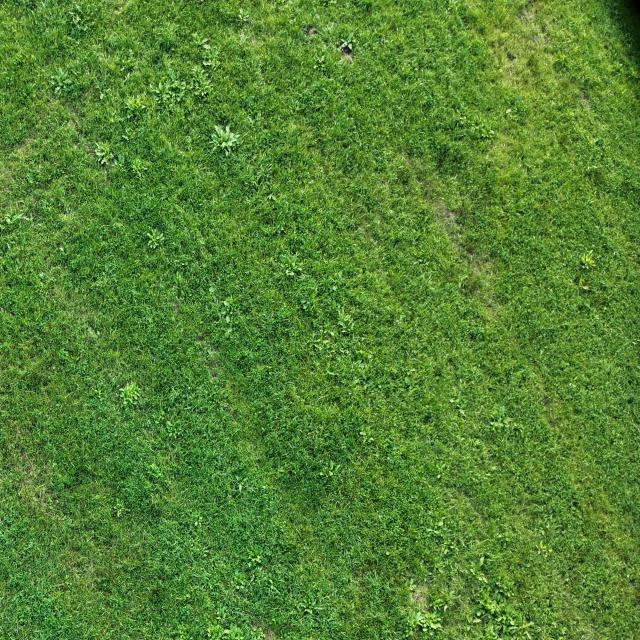rumex: (0, 221, 83, 345), (567, 93, 640, 220), (458, 567, 534, 638), (225, 542, 281, 612), (245, 149, 275, 193), (296, 590, 330, 627), (64, 2, 98, 34), (232, 473, 273, 498), (463, 111, 496, 142), (412, 606, 446, 634), (575, 250, 598, 289), (475, 587, 503, 618), (216, 292, 239, 327), (113, 53, 138, 83), (50, 66, 74, 96), (446, 384, 468, 416), (488, 402, 511, 432), (190, 70, 214, 98), (3, 206, 31, 228), (118, 381, 142, 406), (311, 44, 332, 72), (192, 33, 214, 59), (122, 94, 148, 116), (282, 254, 304, 279), (163, 414, 183, 441), (427, 591, 450, 614), (357, 425, 377, 448), (466, 566, 489, 586), (244, 548, 264, 569), (145, 228, 164, 250), (336, 32, 355, 54), (320, 458, 338, 481), (128, 157, 146, 179), (336, 316, 356, 334), (111, 498, 127, 518), (535, 538, 551, 556), (164, 69, 182, 84), (67, 12, 83, 28), (168, 76, 184, 92), (237, 6, 251, 24), (170, 85, 184, 103), (204, 54, 219, 70), (453, 106, 468, 121), (555, 51, 569, 67), (412, 611, 425, 628), (353, 379, 368, 393), (585, 162, 601, 175), (103, 260, 116, 276), (12, 50, 27, 63), (237, 32, 248, 49), (457, 273, 470, 286), (221, 299, 233, 311), (582, 254, 595, 265), (97, 155, 110, 166), (229, 623, 239, 637), (26, 173, 37, 185), (314, 341, 326, 352), (326, 22, 336, 35), (494, 589, 504, 602), (408, 579, 417, 593), (220, 604, 227, 620), (222, 140, 232, 151), (441, 546, 450, 558), (577, 276, 585, 289), (477, 555, 485, 568), (288, 254, 298, 264), (208, 285, 216, 297), (435, 518, 444, 528), (165, 420, 173, 431), (514, 369, 525, 377), (499, 404, 505, 418), (54, 86, 63, 95), (538, 540, 546, 550), (286, 268, 296, 276), (192, 32, 200, 42), (116, 156, 124, 166), (121, 133, 130, 141), (328, 329, 336, 338), (513, 95, 522, 103), (248, 116, 255, 126), (247, 96, 254, 106), (452, 107, 460, 115), (505, 108, 512, 117), (328, 462, 335, 471), (50, 76, 57, 85), (5, 216, 12, 224), (359, 430, 367, 437), (449, 396, 456, 404), (238, 483, 243, 494), (568, 382, 575, 389), (120, 65, 126, 73), (225, 148, 231, 156), (194, 520, 200, 527), (99, 92, 104, 100), (437, 473, 442, 480)
